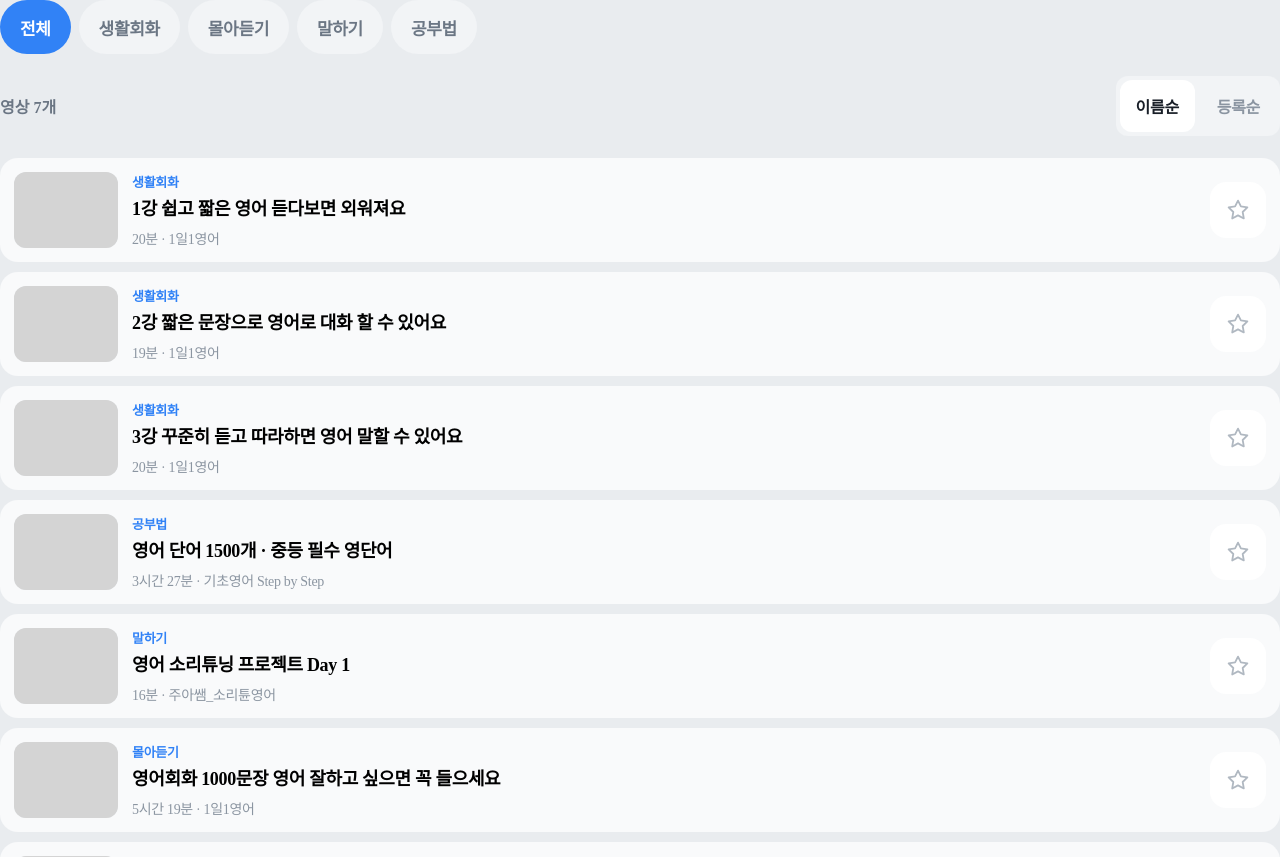
영상 화면 › 칩을 누르면 필터가 바뀐다
expect the text "1강 쉽고 짧은 영어 듣다보면 외워져요" is shown: met, box [132,199,405,219]
Click the button "공부법": (434, 27) [391,0,477,54]
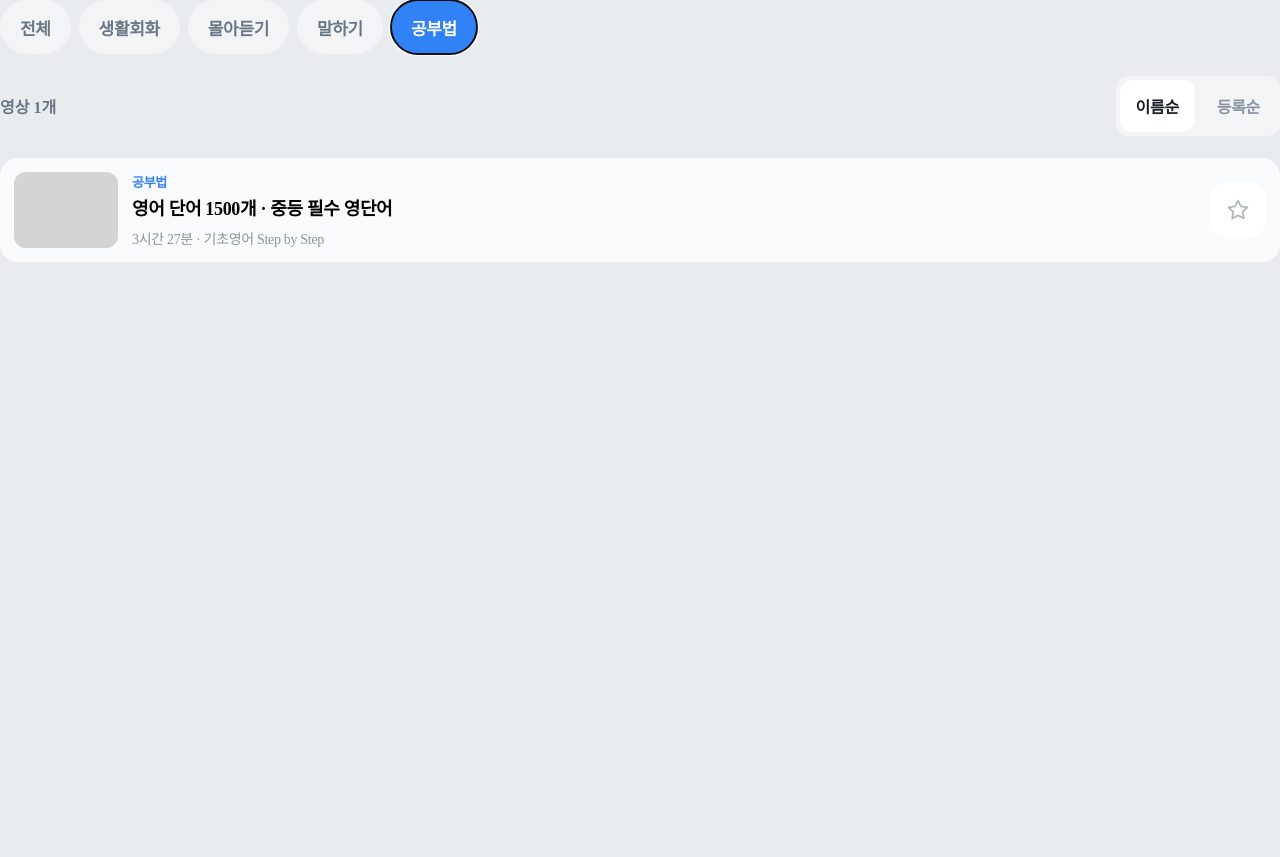
expect the text "영어 단어 1500개 · 중등 필수 영단어" is shown: met, box [132,199,392,219]
expect the number of list items is 1: met, box [0,158,1279,262]
